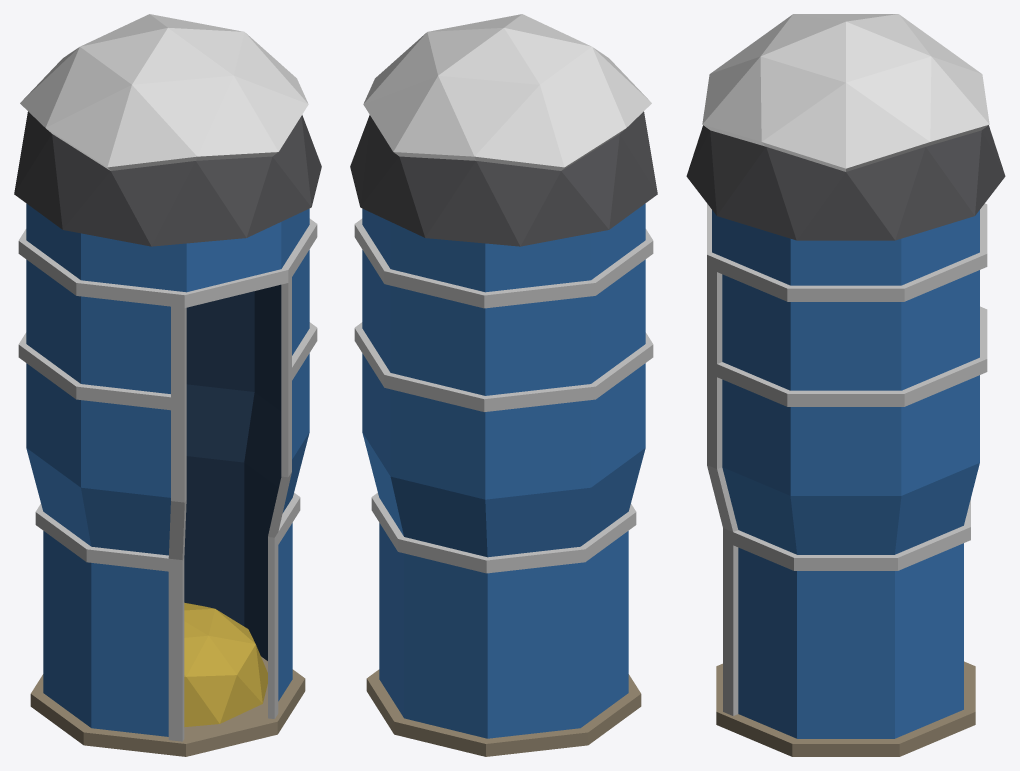
Rendered from Silo_Snowy.fbx.
3 views of the same model, side by side, from view 1: azimuth 30°, elevation 25°; view 2: azimuth 150°, elevation 25°; view 3: azimuth 270°, elevation 25° (orthographic).
Parts seen in each view (by area): view 1: Silo_Snowy; view 2: Silo_Snowy; view 3: Silo_Snowy.
Part boxes in pixels (box(x1,y1,x2,y2)): Silo_Snowy: box(14, 14, 321, 756); Silo_Snowy: box(350, 14, 657, 756); Silo_Snowy: box(686, 14, 1005, 756).
Bounding box in the file's own units: 2.68 × 6.63 × 2.82.
